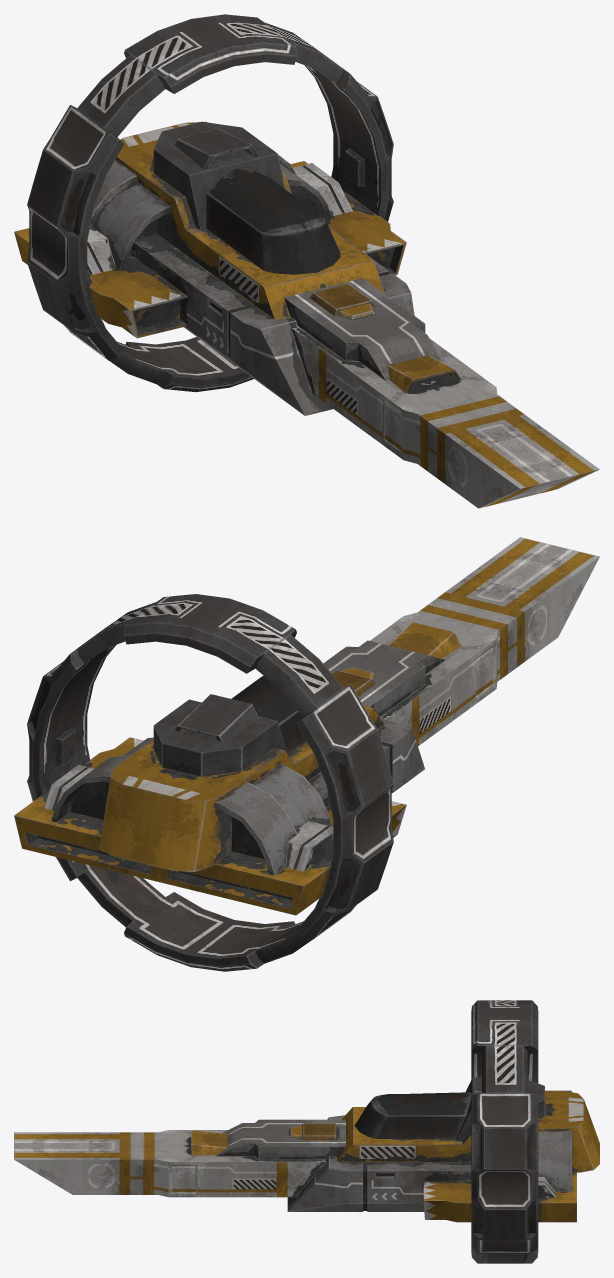
Rendered from Zenith.gltf.
The picture shows the model from 3 angles, top to bottom: view 1: azimuth 30°, elevation 25°; view 2: azimuth 150°, elevation 25°; view 3: azimuth 270°, elevation 25°; orthographic projection. The views are drawn at different scales.
Parts seen in each view (by area): view 1: Zenith; view 2: Zenith; view 3: Zenith.
Part boxes in pixels (x1,y1,x2,y2): Zenith: [14, 14, 599, 508]; Zenith: [14, 537, 599, 971]; Zenith: [14, 1000, 599, 1263].
Size of the model in its own units: 5.63 by 5.43 by 12.07.
1 material, 1 textured.
